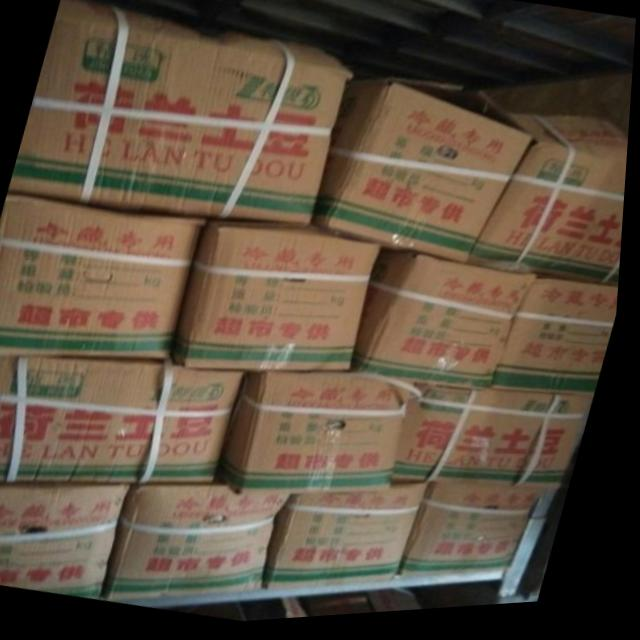box: (10, 0, 352, 230), (316, 85, 537, 270), (0, 193, 210, 361), (0, 356, 250, 487), (178, 220, 383, 376), (469, 120, 630, 293), (356, 252, 541, 396), (223, 375, 419, 497), (108, 485, 301, 602), (399, 389, 599, 498), (271, 486, 436, 594), (0, 484, 139, 601), (497, 284, 623, 403), (405, 488, 552, 584)
